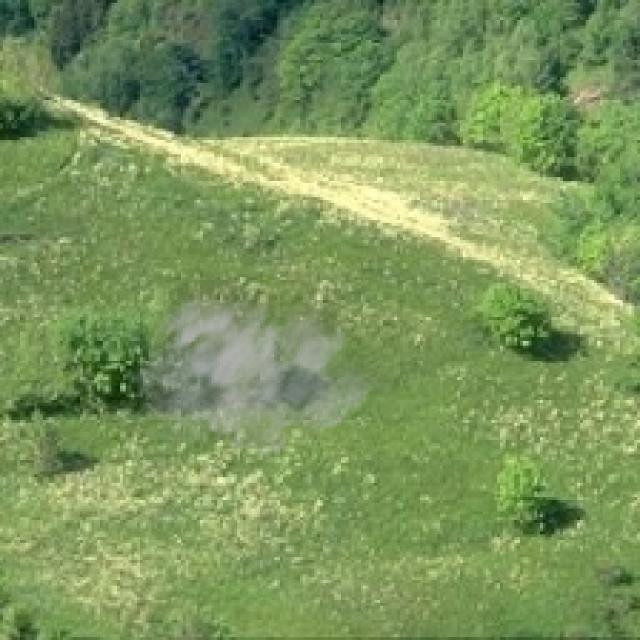smoke: (117, 260, 386, 466)
